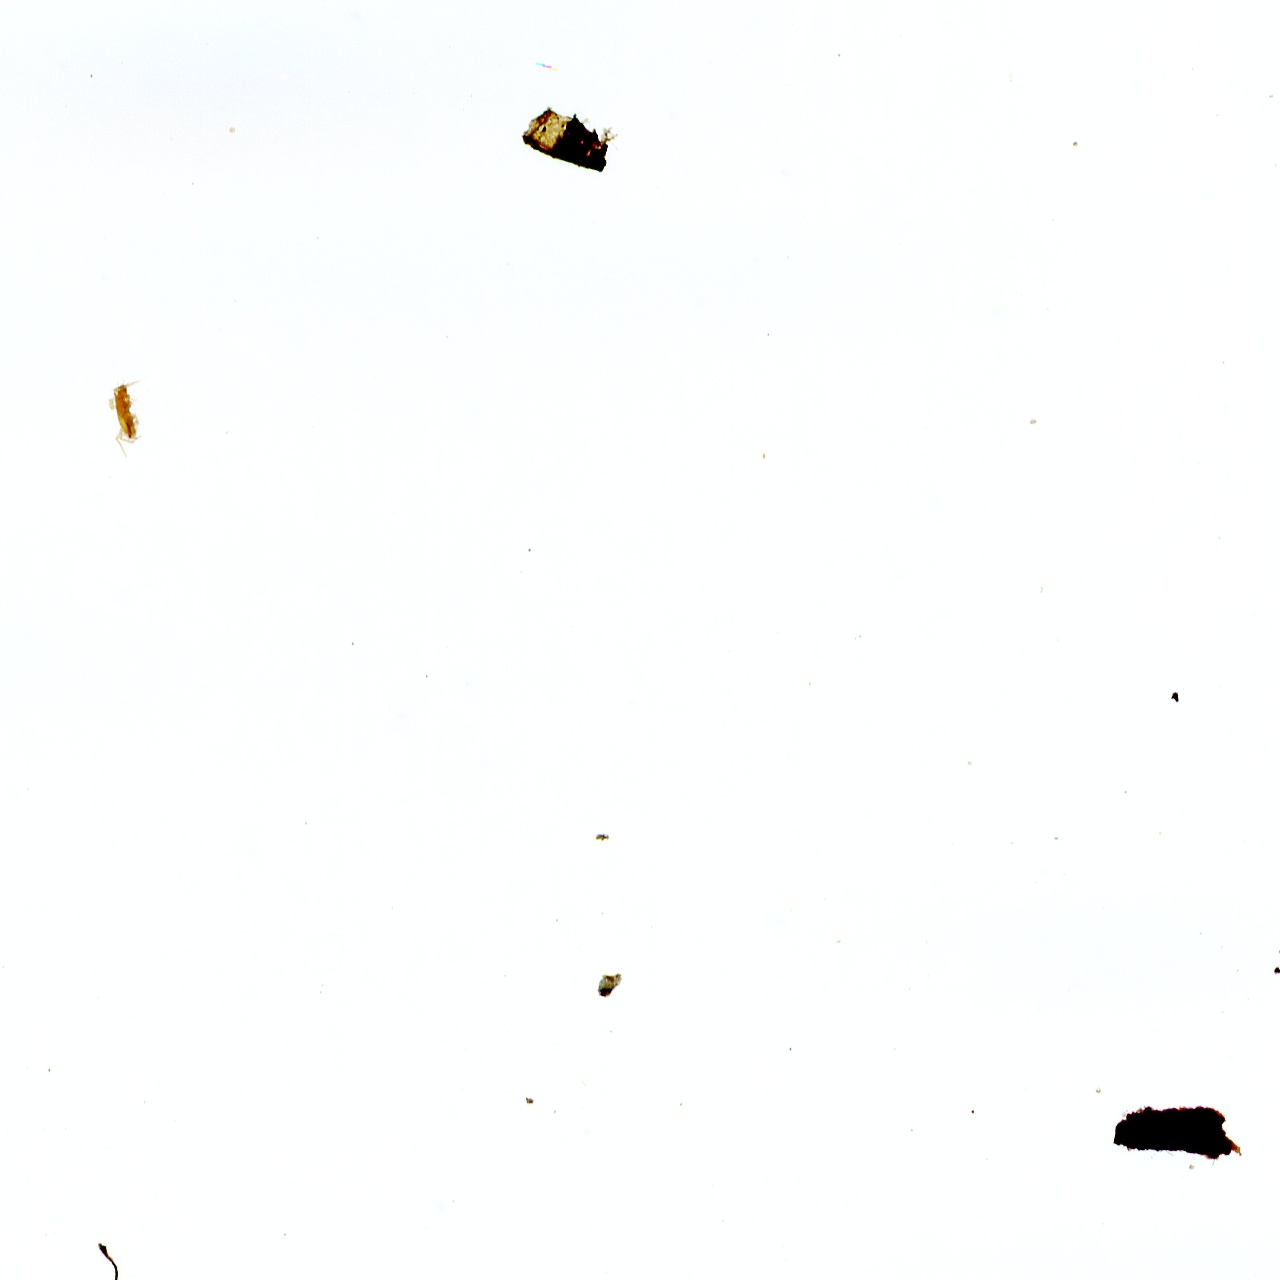arthropod: (105, 374, 147, 460)
